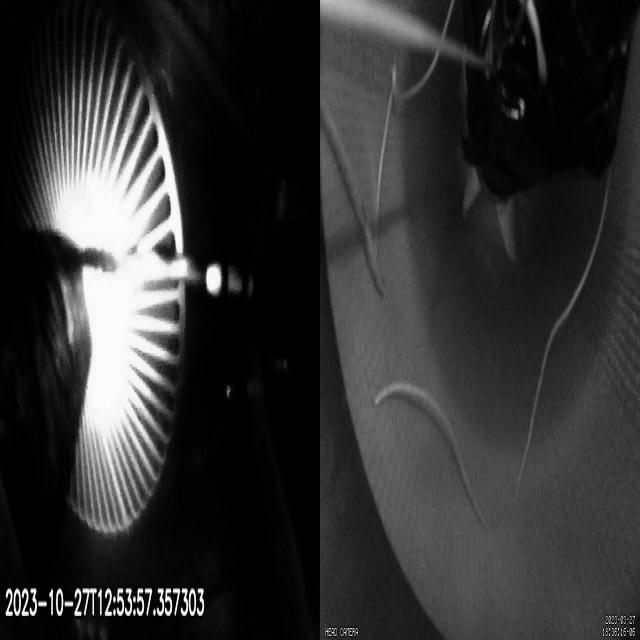white-dots: (207, 262, 256, 299)
